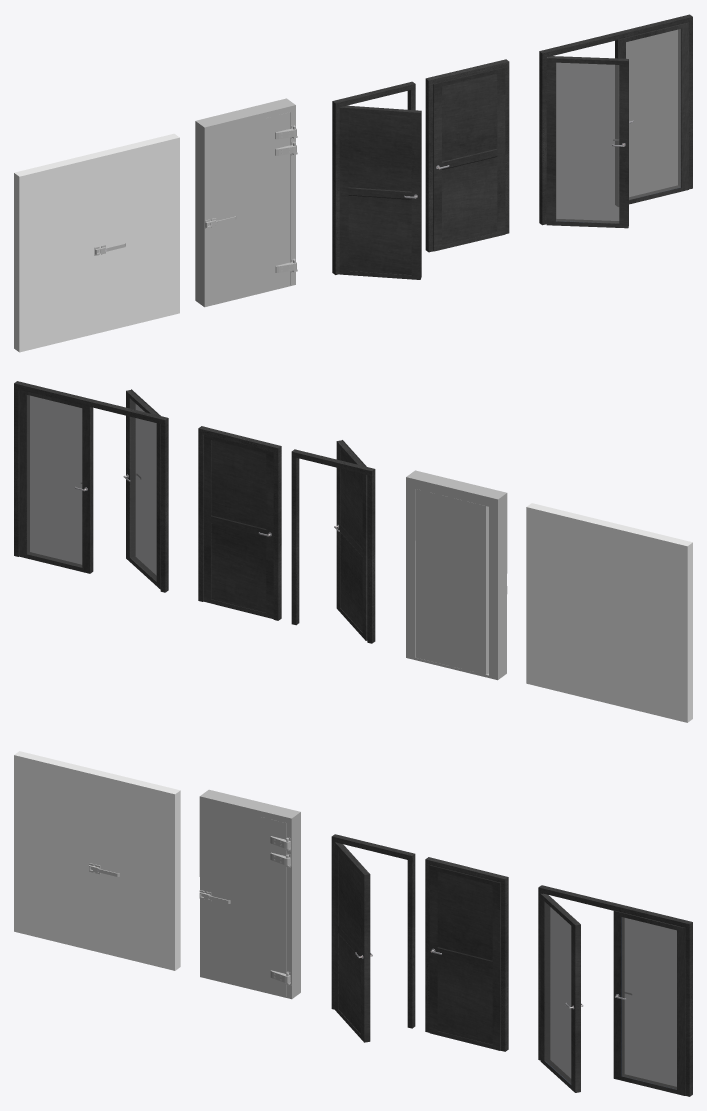
3 views of the same model, one above another, from view 1: azimuth 30°, elevation 25°; view 2: azimuth 150°, elevation 25°; view 3: azimuth 330°, elevation 25° (orthographic).
Visible parts, largest first — view 1: group_56 (×2), group_74 (×2), group_9, group_2, group_26, group_93, group_34, group_13, group_91, group_69, group_39, group_72 (×2) (+4 smaller); view 2: group_9, group_2, group_26, group_75, group_38, group_13, group_72 (×2), group_57, group_52, group_88, group_96, group_30 (+3 smaller); view 3: group_74 (×2), group_2, group_9, group_26, group_56 (×2), group_34, group_13, group_69 (×2), group_72, group_39, group_93, group_52 (+3 smaller).
Part boxes in pixels (box(x1,y1,x2,y2)): group_56 (×2): box(556, 62, 619, 223); group_74 (×2): box(626, 29, 680, 199); group_9: box(14, 153, 99, 352); group_2: box(94, 133, 179, 332); group_26: box(210, 112, 289, 304); group_93: box(348, 112, 411, 274); group_34: box(442, 73, 497, 245); group_13: box(195, 98, 295, 307); group_91: box(339, 105, 421, 279); group_69: box(546, 56, 628, 228); group_39: box(433, 67, 505, 251); group_72 (×2): box(615, 22, 688, 206); group_9: box(607, 522, 692, 722); group_2: box(526, 503, 611, 703); group_26: box(415, 489, 488, 674); group_75: box(27, 395, 82, 567); group_38: box(211, 440, 266, 612); group_13: box(406, 470, 507, 680); group_72 (×2): box(19, 389, 93, 573); group_57: box(130, 399, 156, 580); group_52: box(14, 381, 168, 592); group_88: box(291, 449, 375, 643); group_96: box(340, 449, 362, 632); group_30: box(198, 426, 281, 620); group_74 (×2): box(621, 917, 676, 1089); group_2: box(94, 770, 180, 970); group_9: box(14, 751, 99, 951); group_26: box(205, 803, 286, 996); group_56 (×2): box(544, 902, 571, 1083); group_34: box(437, 871, 492, 1044); group_13: box(199, 789, 300, 999); group_69 (×2): box(540, 893, 580, 1092); group_72: box(613, 910, 685, 1095); group_39: box(429, 865, 500, 1050); group_93: box(338, 851, 360, 1033); group_52: box(538, 885, 692, 1096).
Bounding box in the file's own units: 336 × 31.03 × 85.86.
